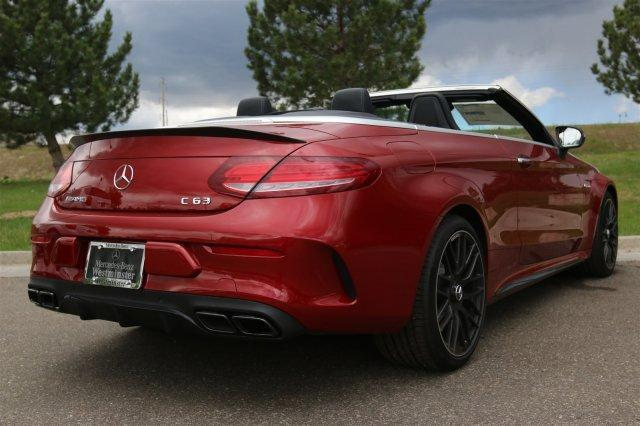C63AMG: (21, 81, 629, 376)
